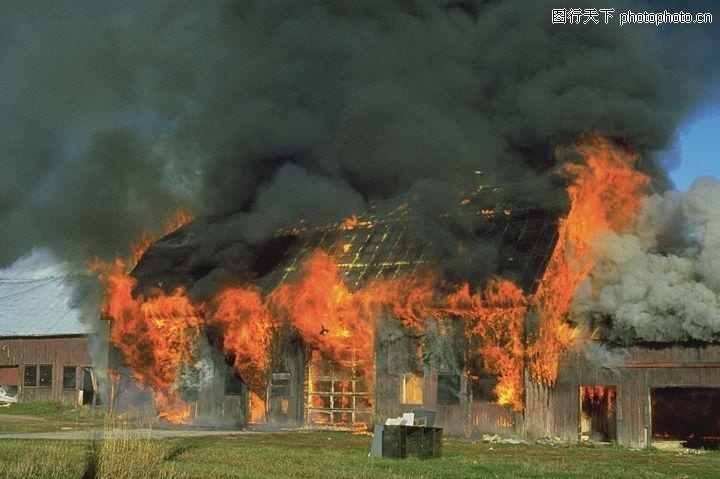fire: (91, 204, 606, 438)
